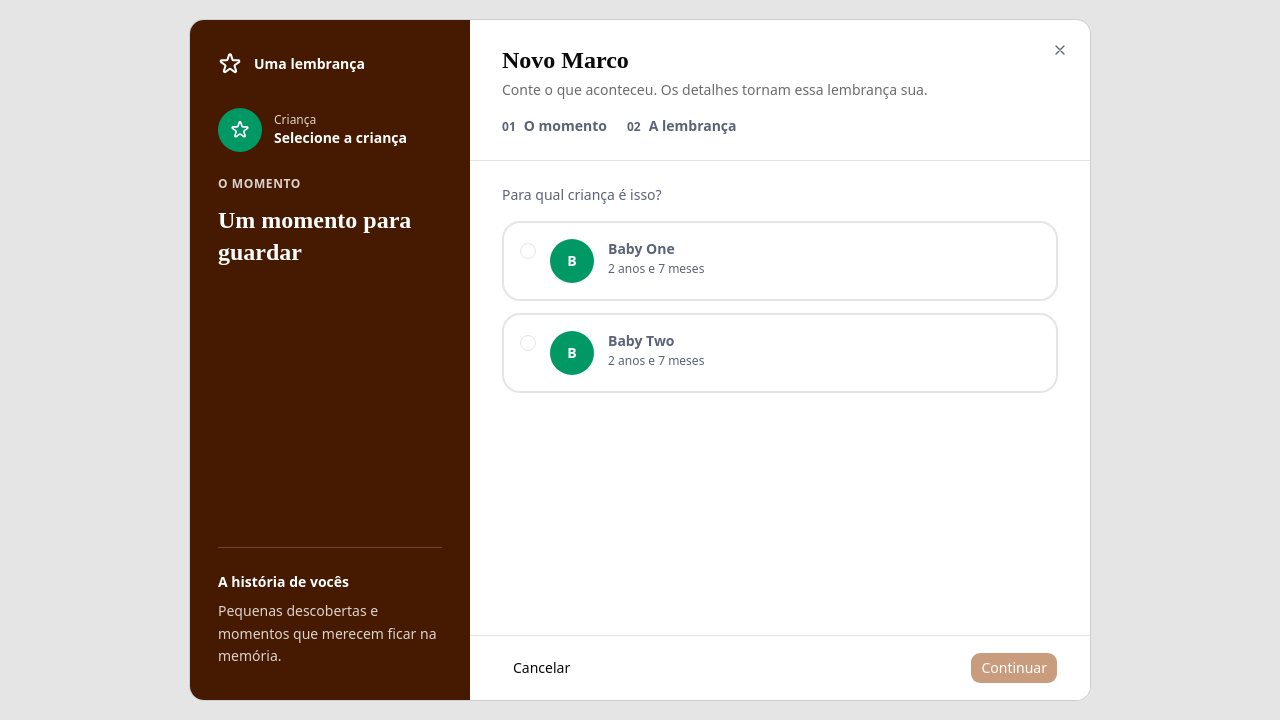
AddMilestoneDialog › shows a baby picker first when the household has more than one child, and gates progress on a choice
This screenshot has width=1280, height=720.
Expected: the text "Baby One" is shown, 608,239 -> 675,258
Expected: the field labelled "O que aconteceu?" is not shown
Click the text "Baby Two" at coordinates (641, 340), box 608,331 -> 674,350
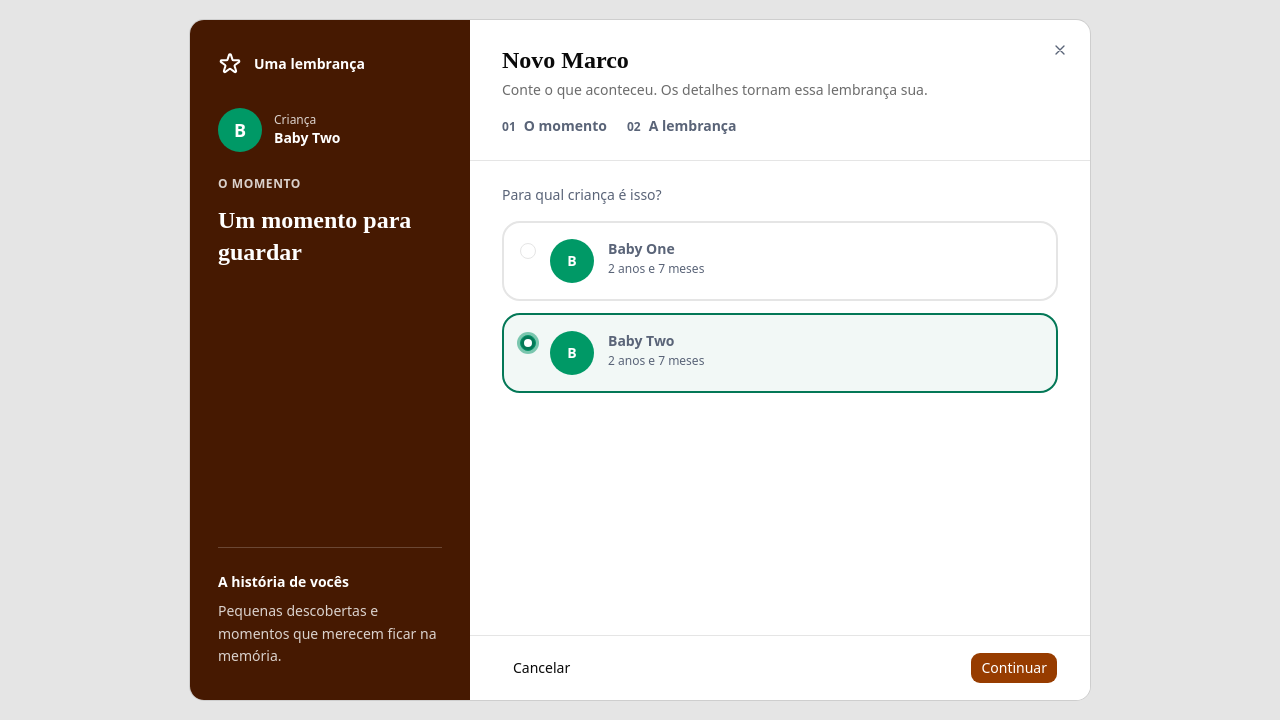
Result: the button "Continuar" is enabled
Click the button "Continuar" at coordinates (1014, 668), box 970,652 -> 1058,684
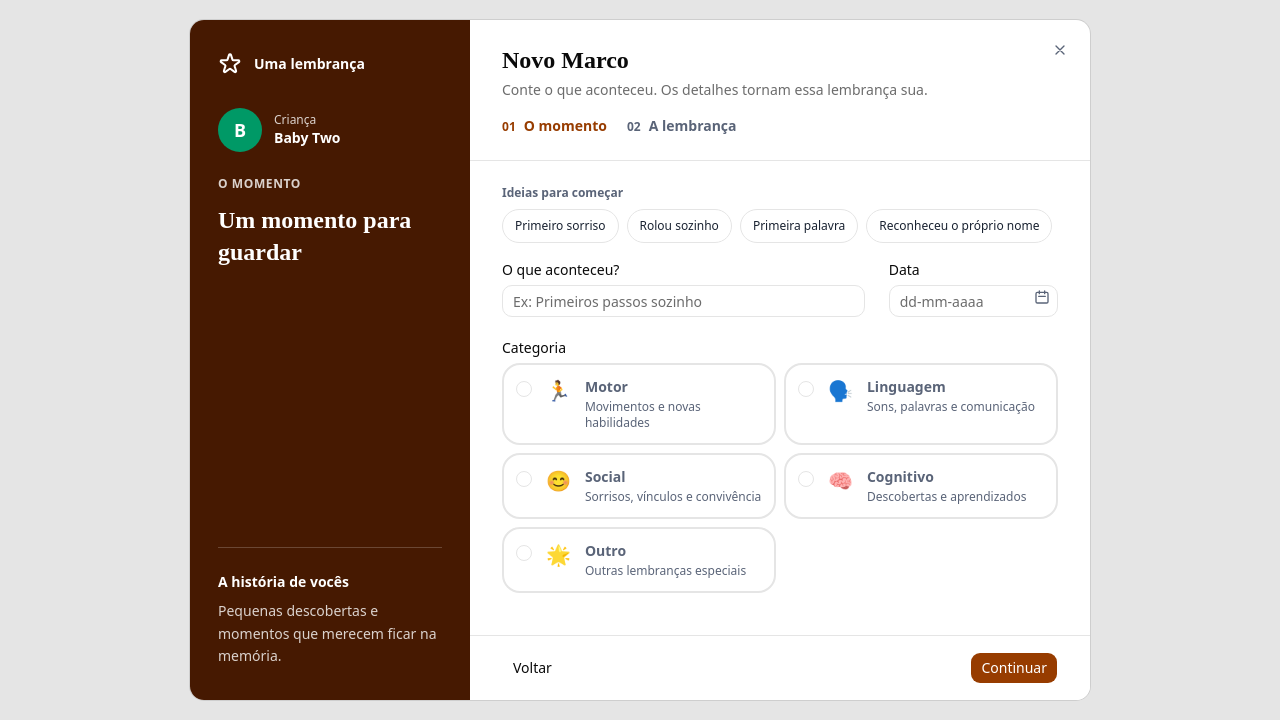
Result: the field labelled "O que aconteceu?" is shown at 502,285 -> 865,317
